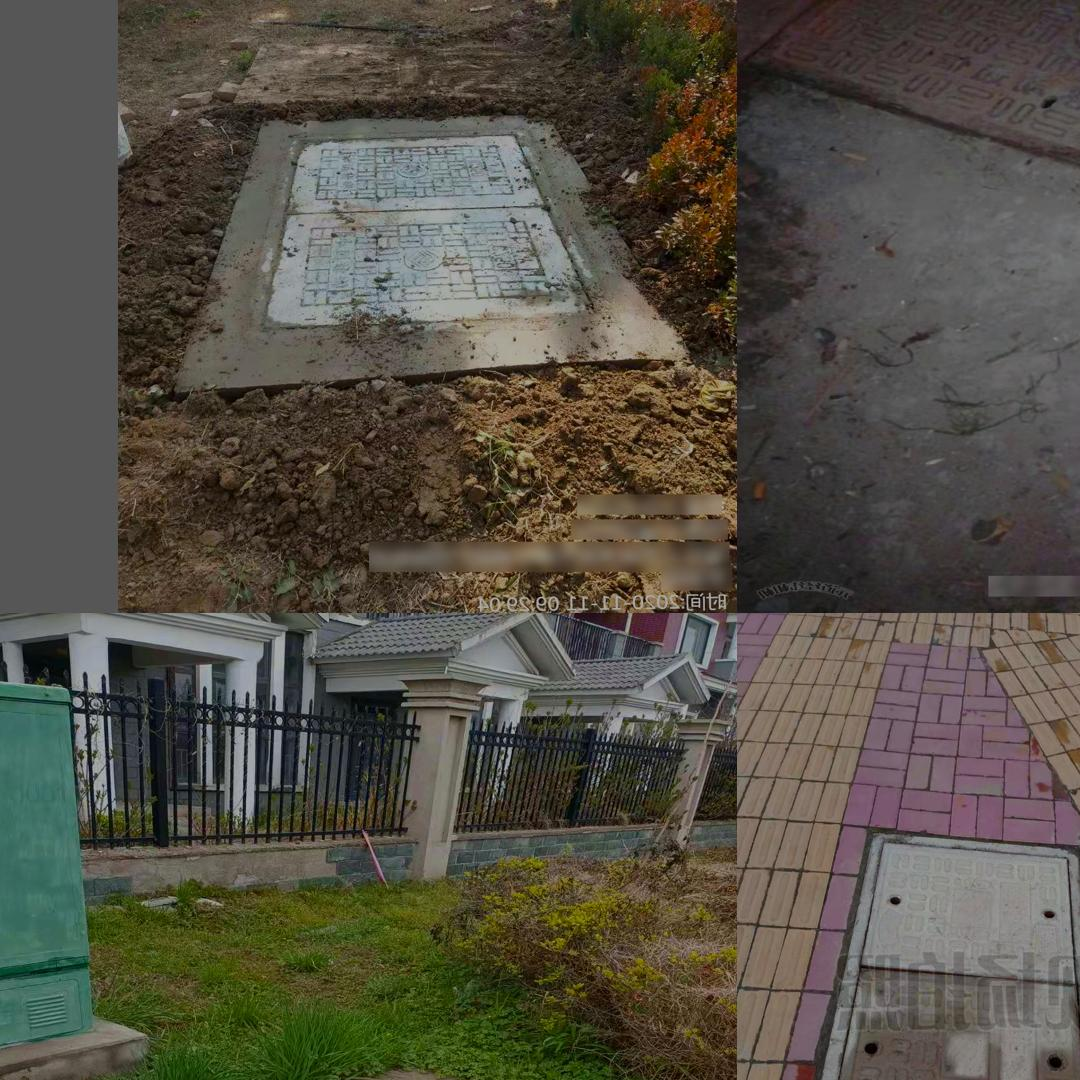good: (182, 101, 659, 362), (737, 0, 1080, 243), (841, 846, 1080, 1080)
